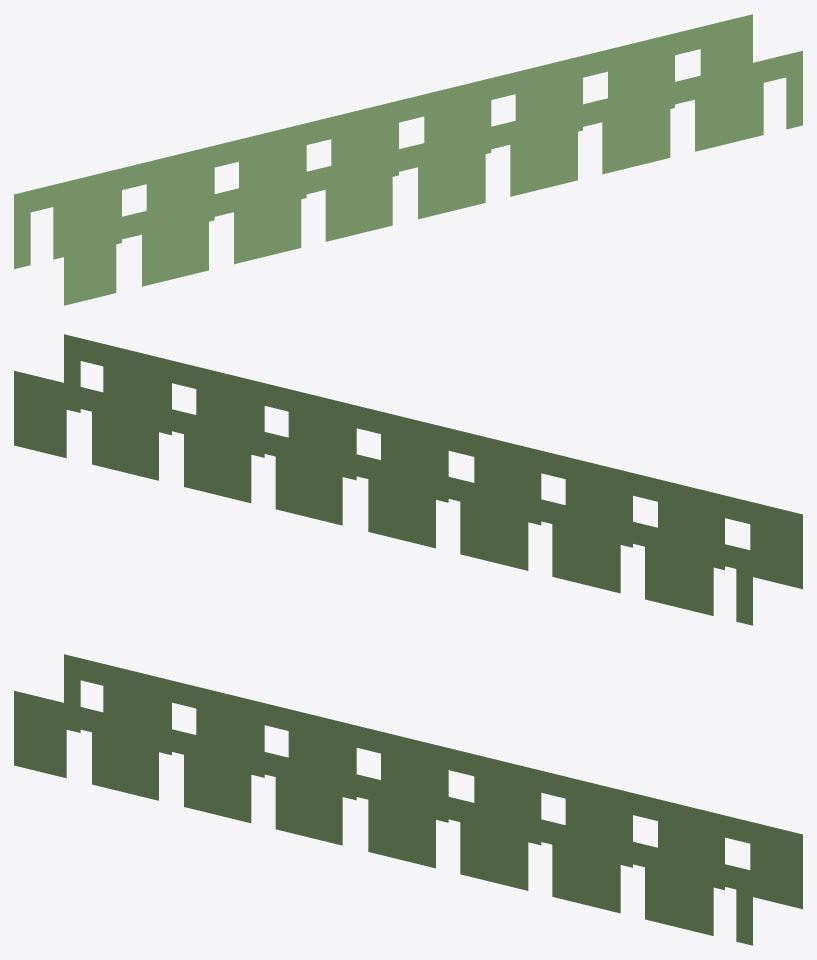
File: HallwayWall.fbx
3 renders of one model, top to bottom at view 1: azimuth 30°, elevation 25°; view 2: azimuth 150°, elevation 25°; view 3: azimuth 330°, elevation 25°, orthographic.
Parts seen in each view (by area): view 1: 08_HALLWAYWALL; view 2: 08_HALLWAYWALL; view 3: 08_HALLWAYWALL.
Boxes of the visible parts, x1,y1,x2,y2 form: 08_HALLWAYWALL: [14, 14, 802, 305]; 08_HALLWAYWALL: [14, 334, 802, 625]; 08_HALLWAYWALL: [14, 654, 802, 945].
Bounding box in the file's own units: 76.44 × 7.39 × 8.93.
